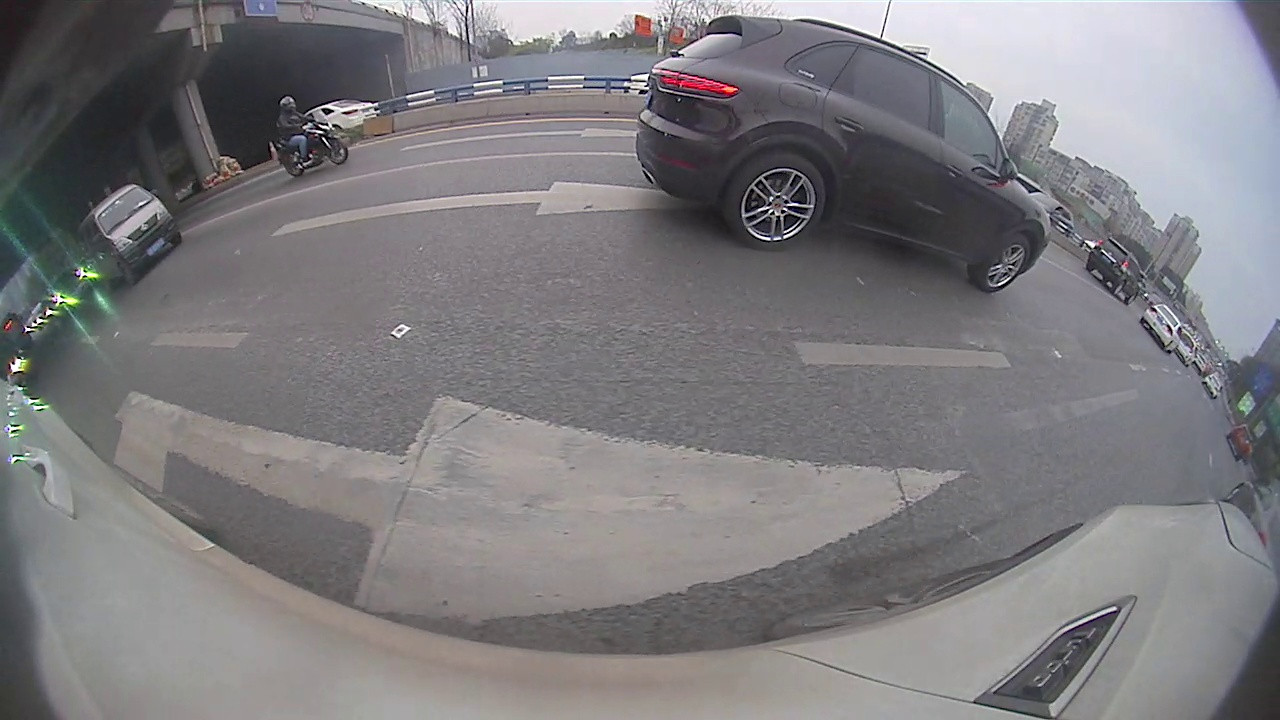car: (636, 14, 1055, 294), (76, 182, 184, 289), (1085, 236, 1142, 306), (1141, 301, 1184, 353)
front: (977, 234, 1033, 296)
rear: (725, 153, 827, 255)
rider: (270, 95, 349, 178)
